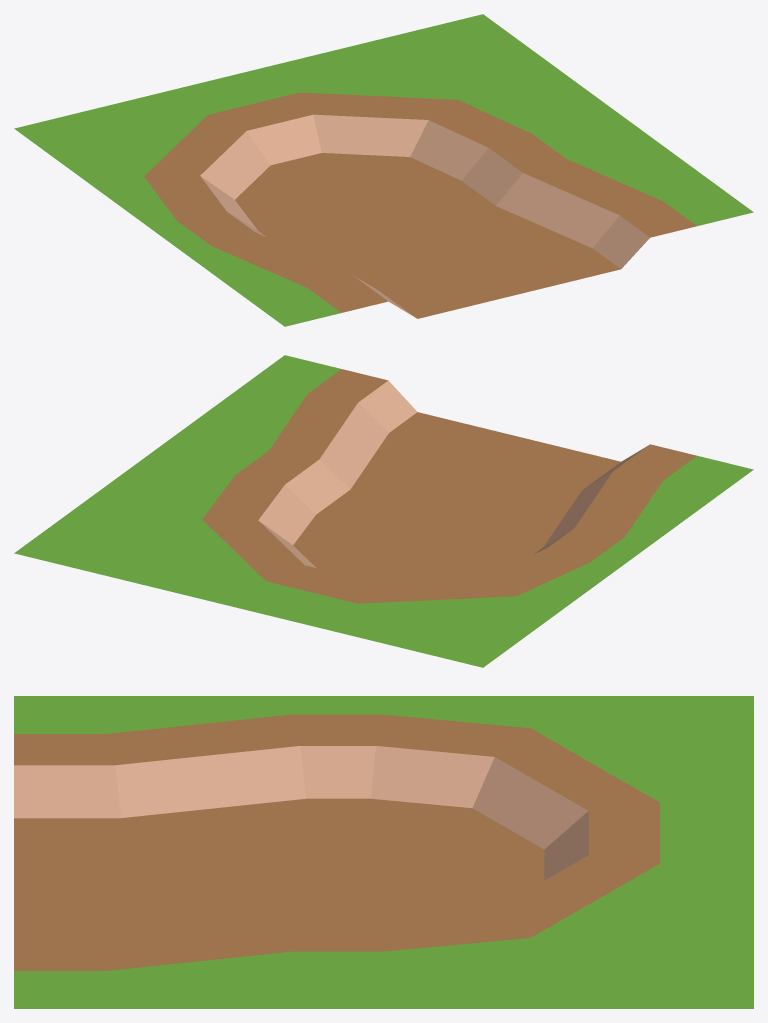
File: ground_pathEndClosed.glb
The picture shows the model from 3 angles, top to bottom: view 1: azimuth 30°, elevation 25°; view 2: azimuth 150°, elevation 25°; view 3: azimuth 270°, elevation 25°; orthographic projection. The views are drawn at different scales.
Visible parts, largest first — view 1: ground_pathEndClosed; view 2: ground_pathEndClosed; view 3: ground_pathEndClosed.
Boxes of the visible parts, box(x1,y1,x2,y2) form: ground_pathEndClosed: box(14, 14, 753, 326); ground_pathEndClosed: box(14, 355, 753, 667); ground_pathEndClosed: box(14, 696, 753, 1008).
Bounding box in the file's own units: 1 × 0.05 × 1.
